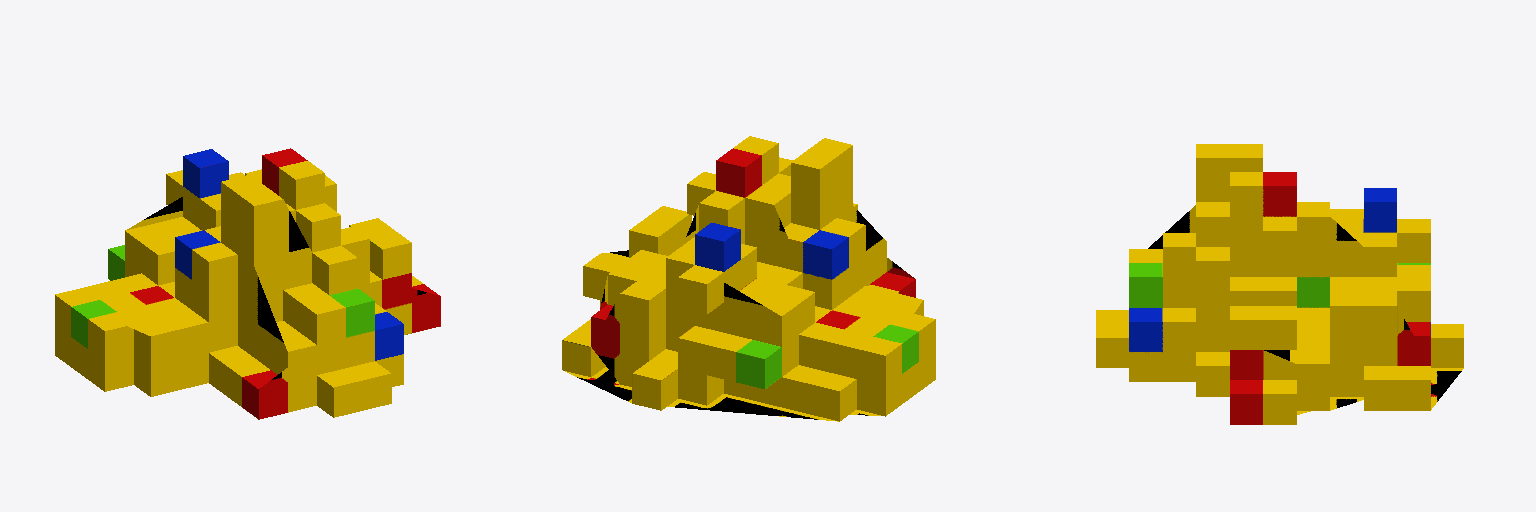
The picture shows the model from 3 angles: view 1: azimuth 30°, elevation 25°; view 2: azimuth 150°, elevation 25°; view 3: azimuth 270°, elevation 25°; orthographic projection.
Parts seen in each view (by area): view 1: Treasure_Small_Treasure_Small.001; view 2: Treasure_Small_Treasure_Small.001; view 3: Treasure_Small_Treasure_Small.001.
Part boxes in pixels (x1,y1,x2,y2): Treasure_Small_Treasure_Small.001: (55,148,440,419); Treasure_Small_Treasure_Small.001: (562,136,935,421); Treasure_Small_Treasure_Small.001: (1096,144,1463,424).
Size of the model in its own units: 1.1 by 0.6 by 1.1.
1 materials, 1 textured.